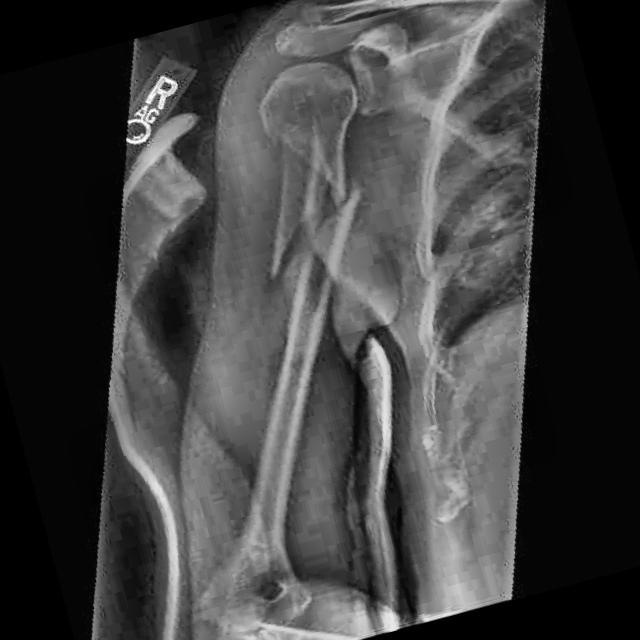humerus: (242, 135, 405, 317), (239, 124, 383, 249)
